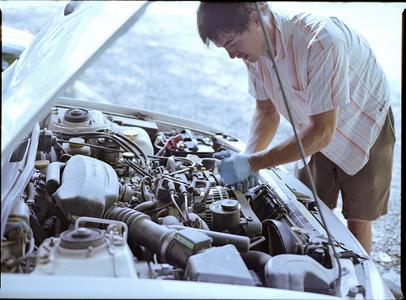person: (195, 1, 401, 259)
